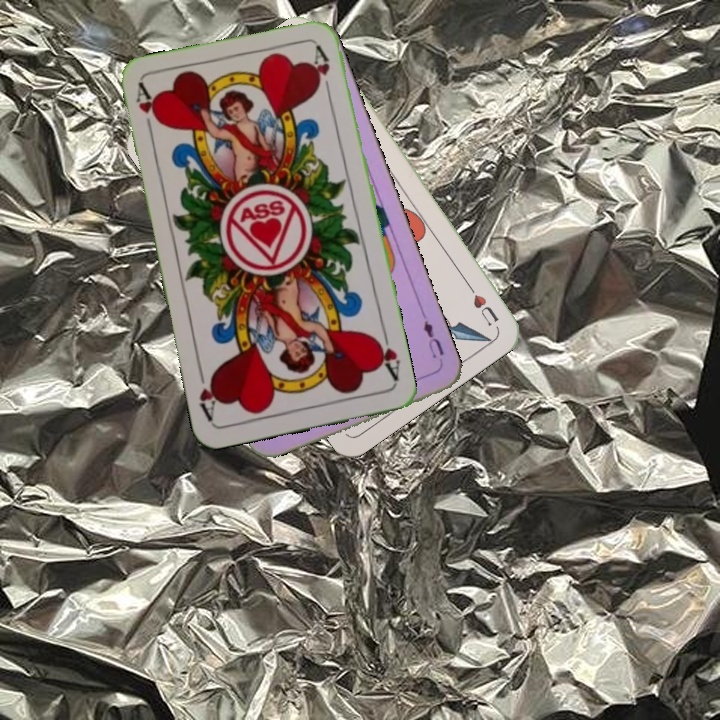EU: (419, 316, 447, 361)
HA: (131, 81, 163, 140), (370, 327, 403, 384)
HU: (461, 277, 501, 329)
